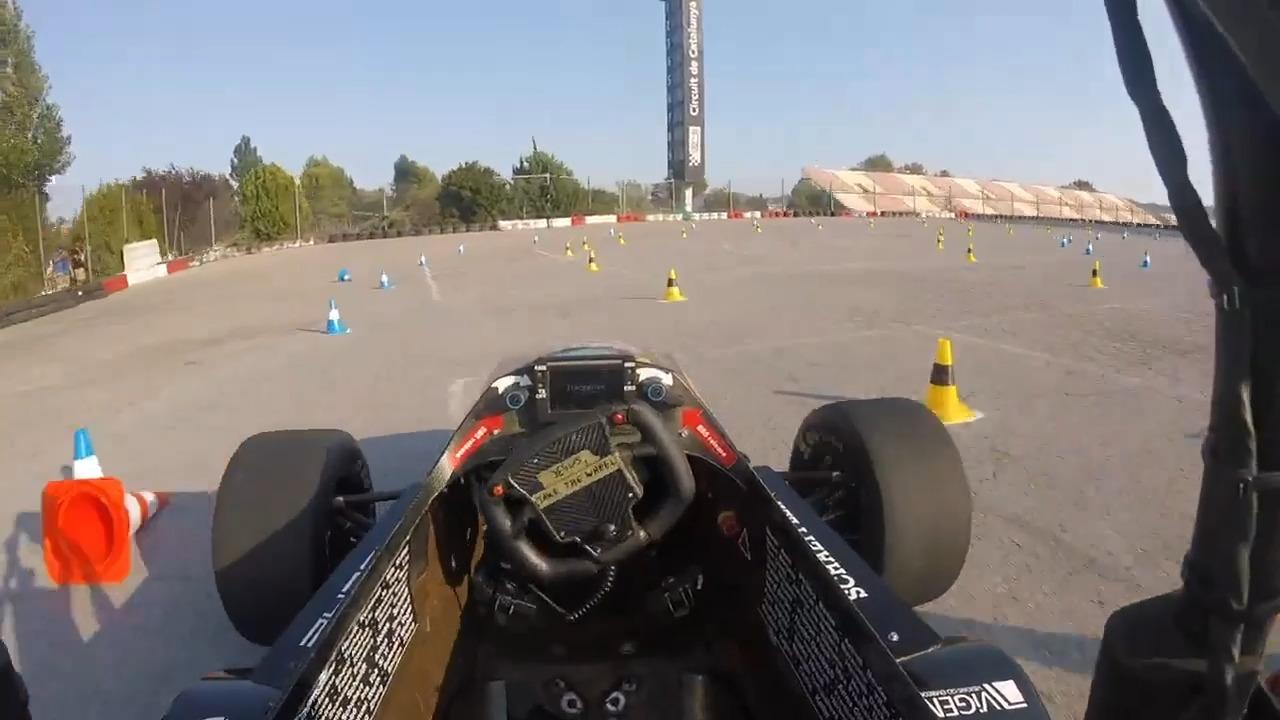blue_cone: (65, 419, 105, 479), (325, 297, 349, 336), (378, 268, 391, 294), (337, 266, 353, 285), (1141, 250, 1153, 271), (417, 252, 429, 268), (1084, 239, 1095, 256), (1061, 234, 1068, 249)
large_orange_cone: (37, 477, 172, 586)
yellow_cone: (926, 331, 976, 421), (659, 267, 690, 303), (1088, 260, 1106, 289), (586, 248, 601, 273), (965, 243, 977, 262), (564, 240, 574, 257), (936, 236, 946, 251), (618, 232, 626, 246), (581, 237, 589, 250), (938, 226, 946, 238), (681, 227, 688, 239), (966, 225, 973, 236), (756, 224, 762, 232)
